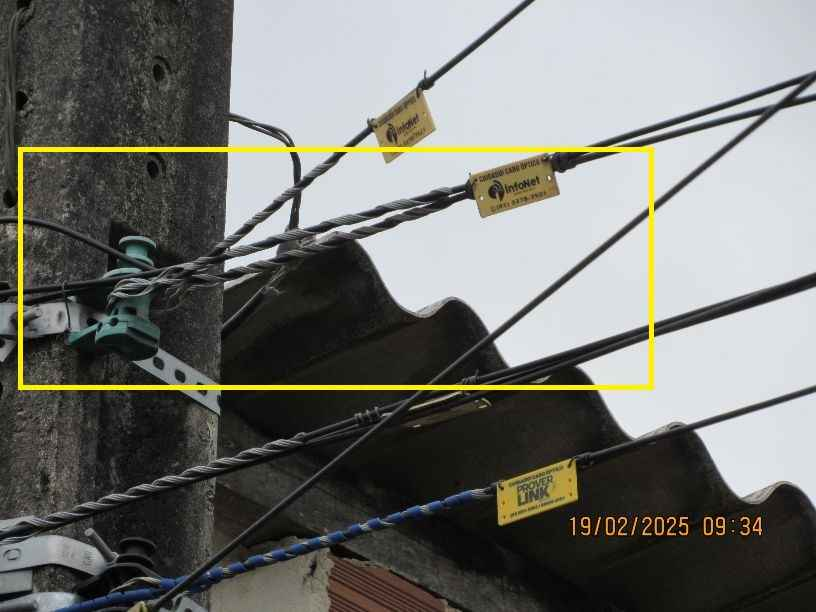fibra_optica: (458, 154, 560, 223), (496, 460, 587, 526), (362, 93, 440, 164)
nivel_fixacao1: (110, 357, 815, 612)
poste: (0, 0, 233, 612)
